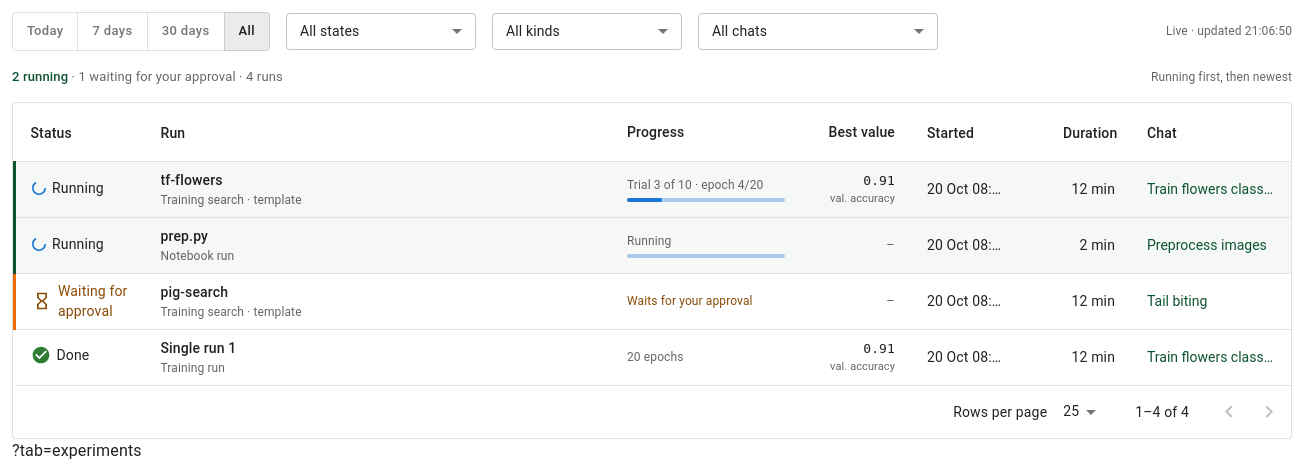
Test: ExperimentsOverview › writes a filter into the address and loads again with it
Press the mouse on the dropdown named "Status" at coordinates (330, 31), box [300,23,359,39]
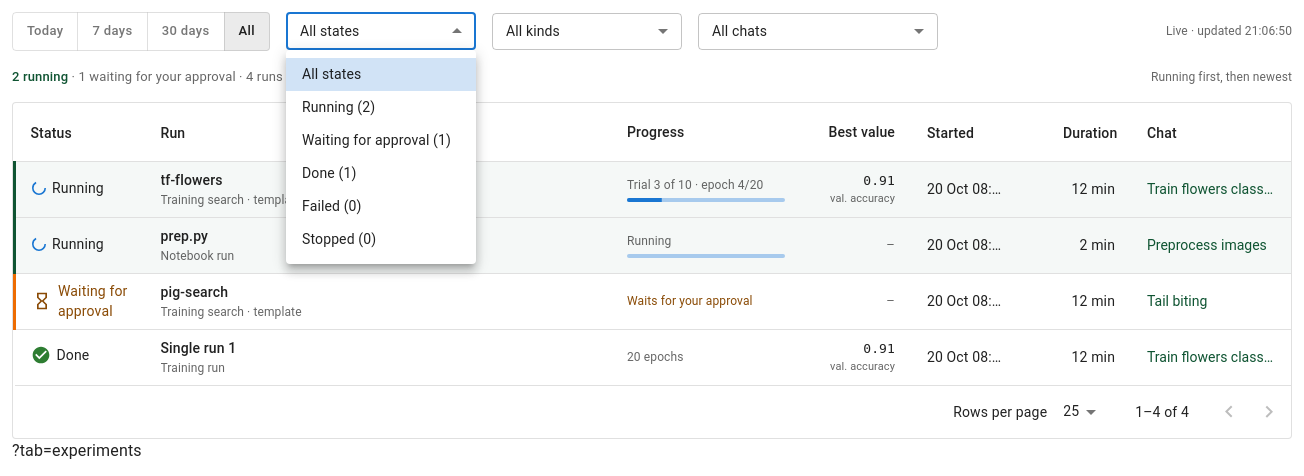
Click the option "Running (2)".
click(339, 107)  # box [302,99,375,115]
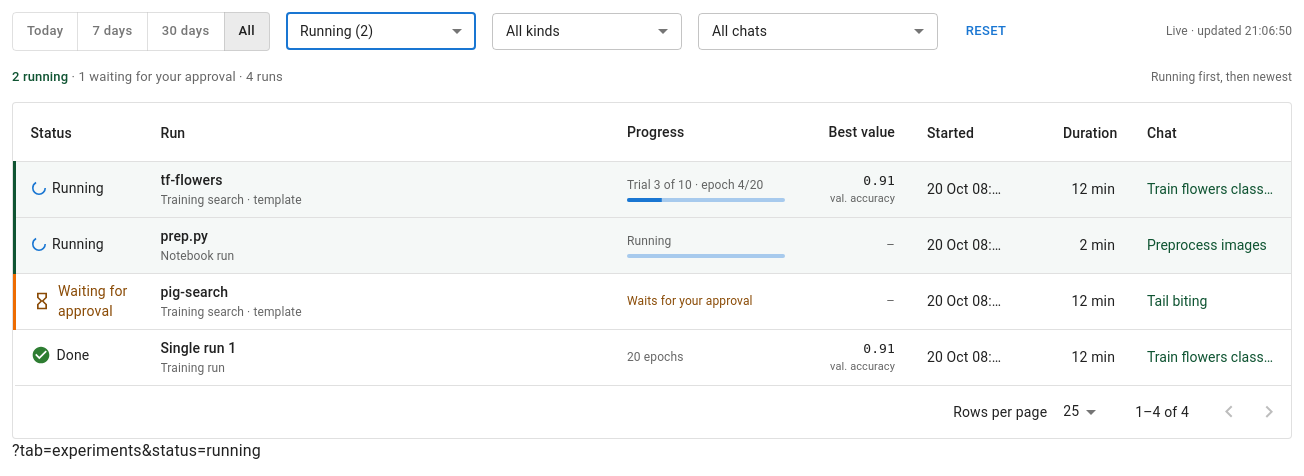
Check: the text with test id "search" shows "status=running", box [12,440,261,460]
Check: the button "Reset" is shown, box [954,16,1018,47]
